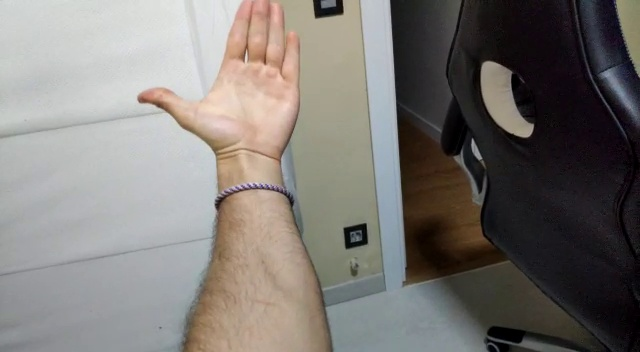Palm: (136, 1, 307, 164)
